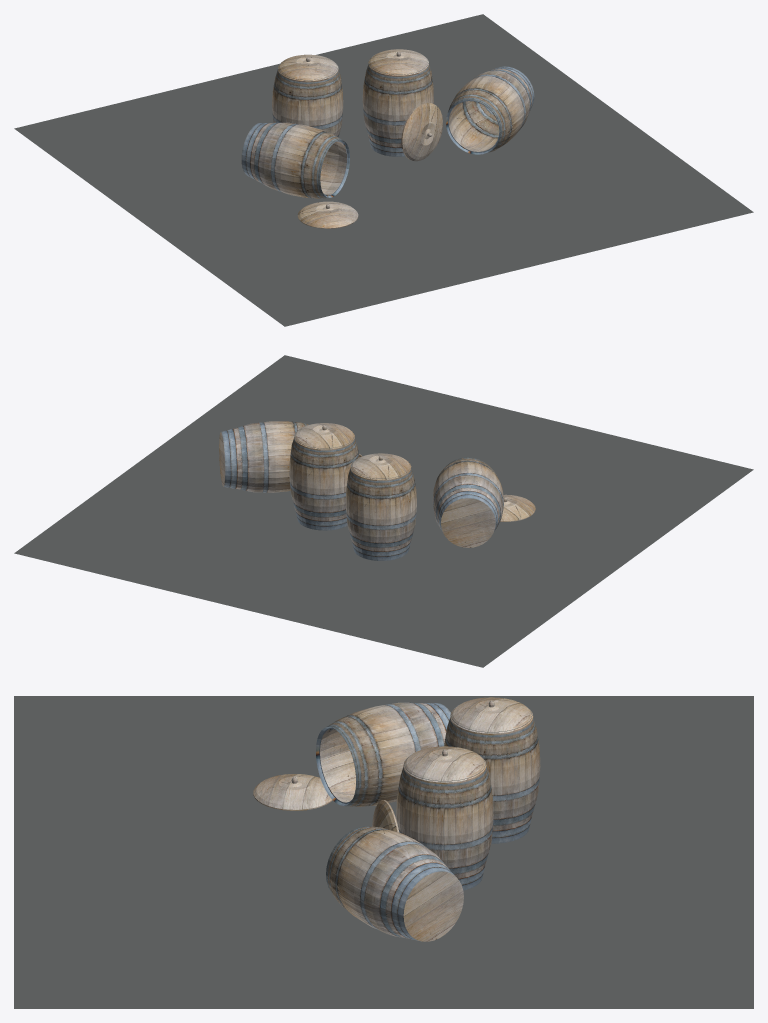
Rendered from Barrel.obj.
3 views of the same model, one above another, from view 1: azimuth 30°, elevation 25°; view 2: azimuth 150°, elevation 25°; view 3: azimuth 270°, elevation 25° (orthographic). The views are drawn at different scales.
Visible parts, largest first — view 1: Plane, Boddy.001_Circle.007, Boddy.002_Circle.009, Boddy_Circle.001, Boddy.003_Circle.011, Up.002_Circle.010, Up.003_Circle.012, Up_Circle.002, Up.001_Circle.008; view 2: Plane, Boddy.003_Circle.011, Boddy.001_Circle.007, Boddy.002_Circle.009, Boddy_Circle.001, Up.003_Circle.012, Up_Circle.002, Up.001_Circle.008; view 3: Plane, Boddy.002_Circle.009, Boddy.001_Circle.007, Boddy_Circle.001, Boddy.003_Circle.011, Up.003_Circle.012, Up_Circle.002, Up.001_Circle.008, Up.002_Circle.010.
Boxes of the visible parts, left/top/right/bottom form: Plane: left=14, top=14, right=753, bottom=326; Boddy.001_Circle.007: left=241, top=122, right=349, bottom=198; Boddy.002_Circle.009: left=446, top=66, right=534, bottom=154; Boddy_Circle.001: left=362, top=56, right=433, bottom=156; Boddy.003_Circle.011: left=272, top=63, right=343, bottom=137; Up.002_Circle.010: left=401, top=102, right=442, bottom=161; Up.003_Circle.012: left=278, top=54, right=338, bottom=82; Up_Circle.002: left=368, top=49, right=428, bottom=76; Up.001_Circle.008: left=297, top=201, right=358, bottom=228; Plane: left=14, top=355, right=753, bottom=667; Boddy.003_Circle.011: left=345, top=460, right=416, bottom=560; Boddy.001_Circle.007: left=432, top=457, right=504, bottom=547; Boddy.002_Circle.009: left=219, top=421, right=309, bottom=492; Boddy_Circle.001: left=289, top=430, right=359, bottom=530; Up.003_Circle.012: left=350, top=453, right=411, bottom=480; Up_Circle.002: left=294, top=423, right=354, bottom=450; Up.001_Circle.008: left=500, top=494, right=535, bottom=521; Plane: left=14, top=696, right=753, bottom=1008; Boddy.002_Circle.009: left=326, top=826, right=463, bottom=941; Boddy.001_Circle.007: left=316, top=702, right=450, bottom=806; Boddy_Circle.001: left=396, top=754, right=493, bottom=890; Boddy.003_Circle.011: left=444, top=705, right=540, bottom=843; Up.003_Circle.012: left=450, top=697, right=533, bottom=735; Up_Circle.002: left=403, top=746, right=486, bottom=784; Up.001_Circle.008: left=253, top=774, right=332, bottom=810; Up.002_Circle.010: left=372, top=800, right=399, bottom=832.
Bounding box in the file's own units: 59.89 × 11.6 × 59.89.
